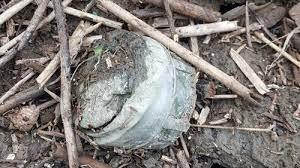pmn: (63, 28, 197, 157)
